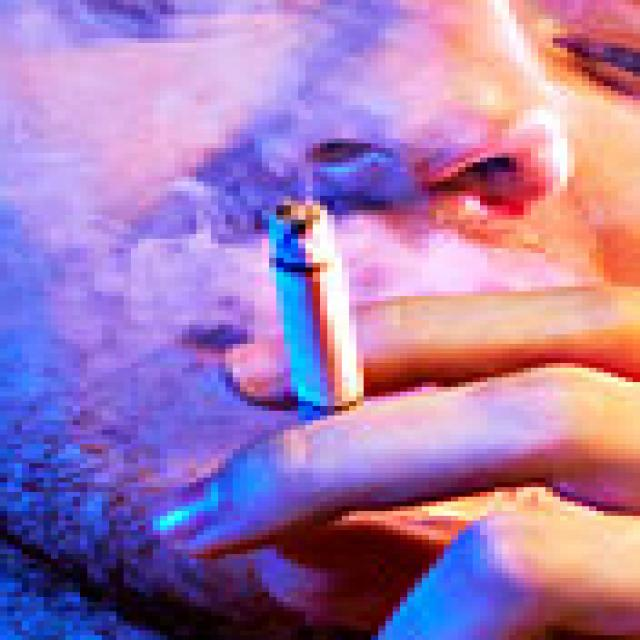smoking: (279, 200, 361, 432)
